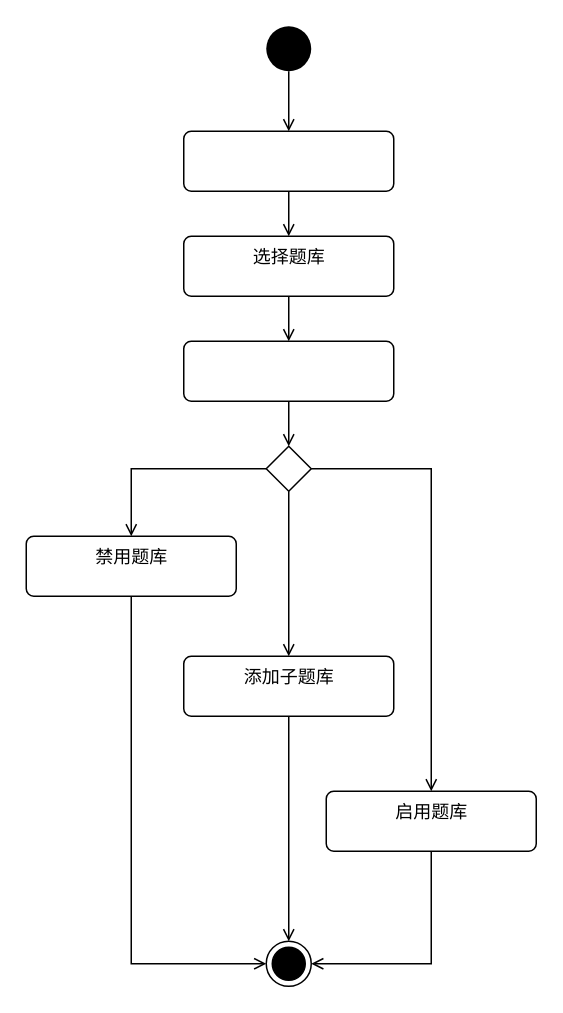
The diagram is 563 pixels wide and 1013 high, and some of its shapes have lost their labels. Each missing label, with the centre of its shape:
题库操作: the point at 288,370
题库管理: the point at 288,160
